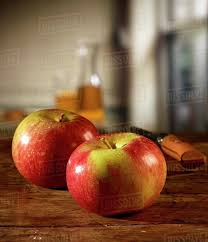apple: (66, 132, 170, 216), (12, 109, 100, 190)
